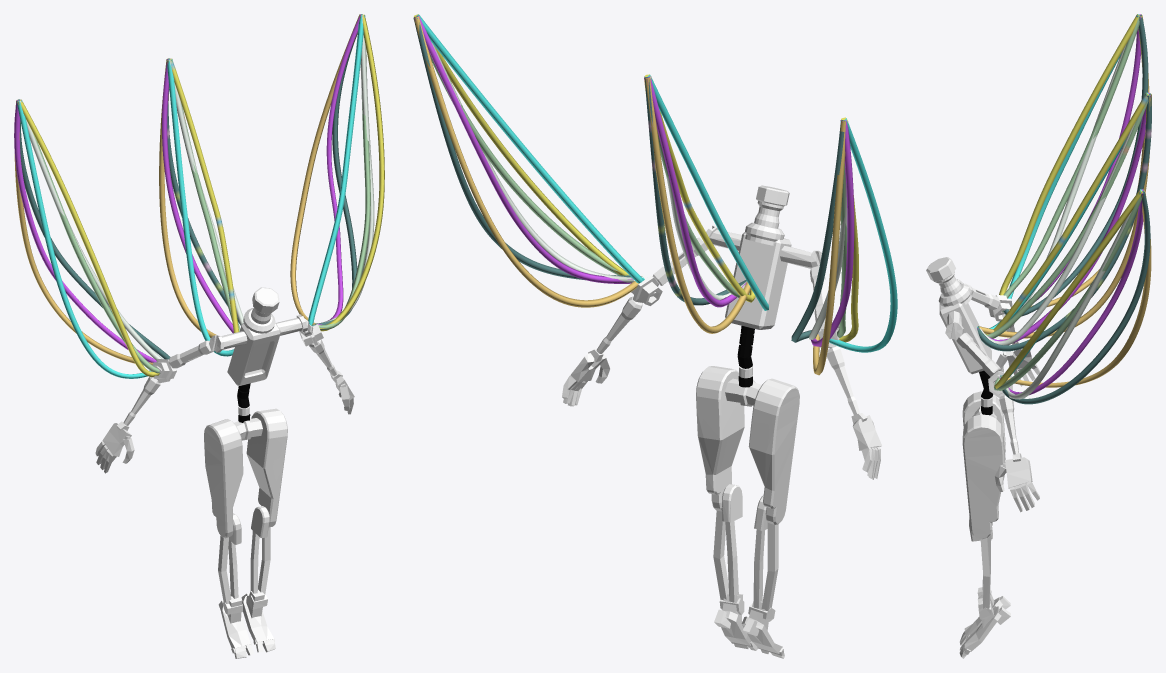
Rendered from RobotEnvironment.fbx.
The picture shows the model from 3 angles, left to right: view 1: azimuth 30°, elevation 25°; view 2: azimuth 150°, elevation 25°; view 3: azimuth 270°, elevation 25°; orthographic projection. The views are drawn at different scales.
Parts seen in each view (by area): view 1: GeoCables, Player_Skeleton_Mixamo; view 2: GeoCables, Player_Skeleton_Mixamo; view 3: GeoCables, Player_Skeleton_Mixamo.
Part boxes in pixels (x1=…): GeoCables: x1=14, y1=14, x2=384, y2=378; Player_Skeleton_Mixamo: x1=95, y1=287, x2=354, y2=658; GeoCables: x1=413, y1=14, x2=897, y2=375; Player_Skeleton_Mixamo: x1=562, y1=185, x2=881, y2=658; GeoCables: x1=977, y1=14, x2=1151, y2=404; Player_Skeleton_Mixamo: x1=926, y1=257, x2=1040, y2=658.
Size of the model in its own units: 3412 by 4918 by 1805.
